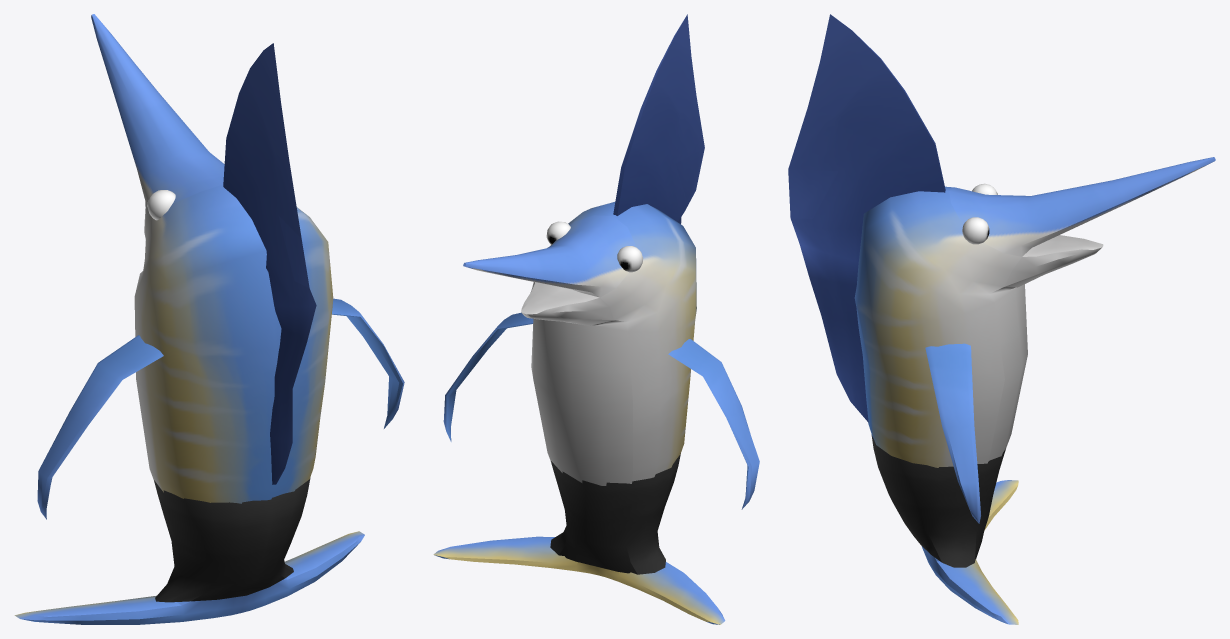
File: kajiki_idle_a_08.fbx
3 renders of one model, left to right at view 1: azimuth 30°, elevation 25°; view 2: azimuth 150°, elevation 25°; view 3: azimuth 270°, elevation 25°, orthographic. The views are drawn at different scales.
Parts seen in each view (by area): view 1: I_a_08; view 2: I_a_08; view 3: I_a_08.
Part boxes in pixels (x1,y1,x2,y2): I_a_08: (14, 14, 404, 624); I_a_08: (433, 14, 759, 624); I_a_08: (788, 14, 1215, 624).
Size of the model in its own units: 1.54 by 2.51 by 1.83.
Materials: 1 (1 with a texture image).
